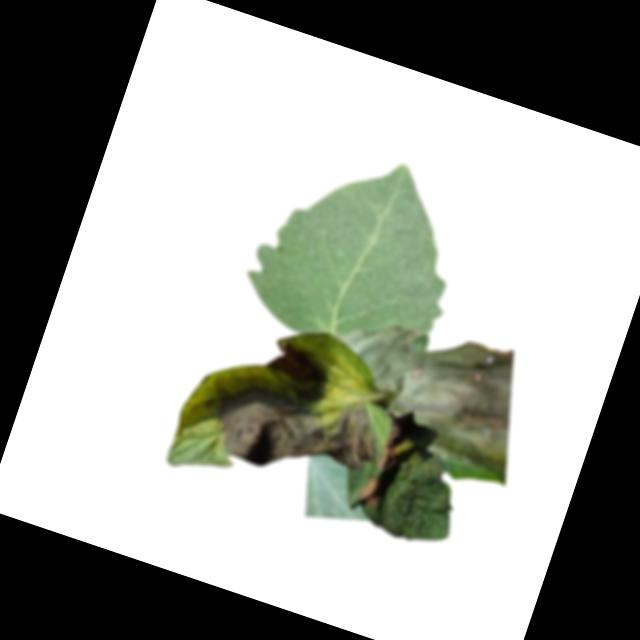Late_blight: (310, 298, 547, 480), (205, 368, 387, 501), (263, 337, 330, 391), (355, 475, 390, 511), (375, 437, 403, 475)
healthy: (234, 127, 483, 373)
